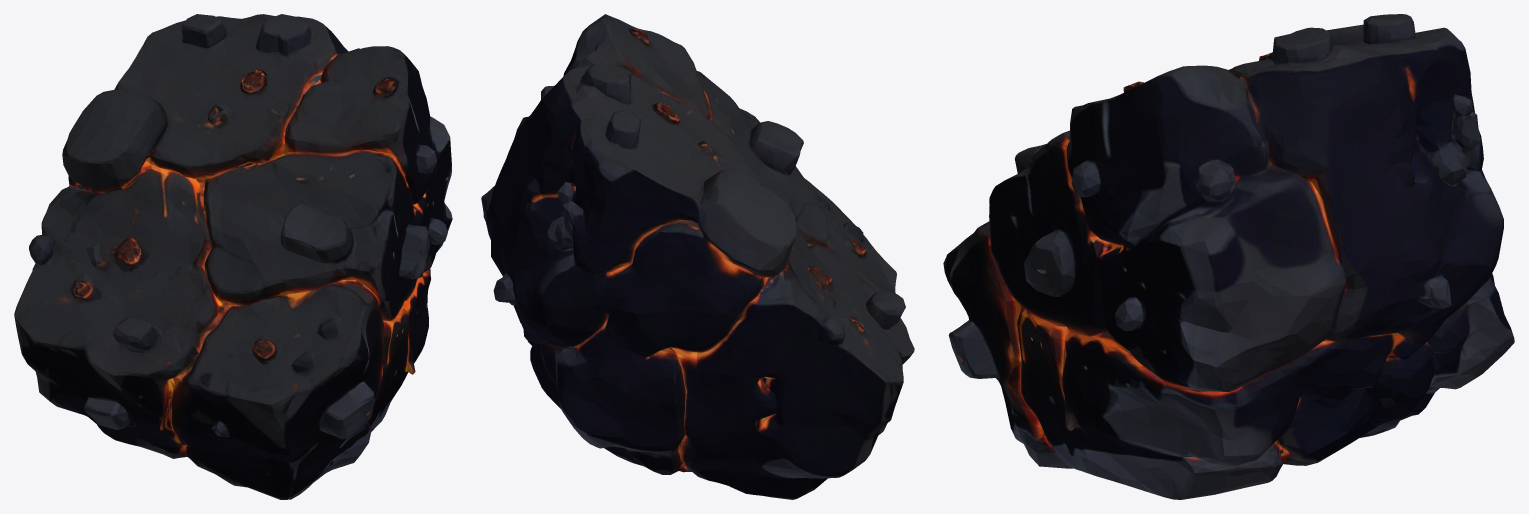
Rendered from lava_rock.glb.
The picture shows the model from 3 angles, left to right: view 1: azimuth 30°, elevation 25°; view 2: azimuth 150°, elevation 25°; view 3: azimuth 270°, elevation 25°; orthographic projection. The views are drawn at different scales.
Visible parts, largest first — view 1: tmpu4qfgfoc.ply; view 2: tmpu4qfgfoc.ply; view 3: tmpu4qfgfoc.ply.
Part boxes in pixels (left/top/right/bottom): tmpu4qfgfoc.ply: left=14, top=14, right=452, bottom=499; tmpu4qfgfoc.ply: left=481, top=14, right=914, bottom=499; tmpu4qfgfoc.ply: left=943, top=14, right=1514, bottom=499.
Bounding box in the file's own units: 1.99 × 1.79 × 1.93.
Materials: 1 (1 with a texture image).
